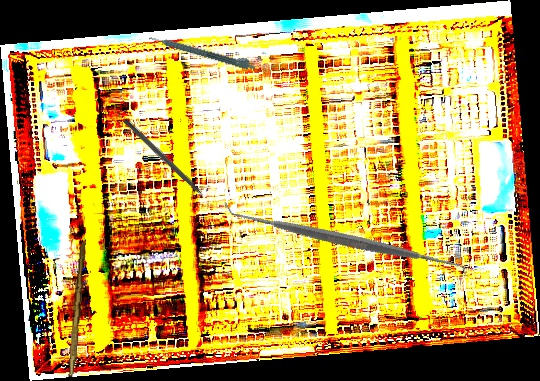Handpiece: (148, 30, 258, 72)
Hook Surgical: (121, 117, 215, 208)
Scalpel Handle: (68, 241, 87, 378)
Spatula Surgical: (223, 119, 468, 360)
